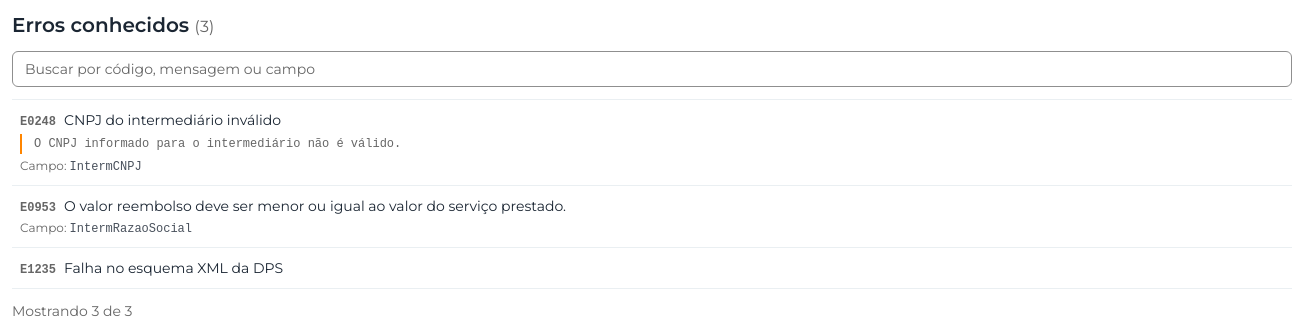
ErrosConhecidos — busca › sem resultado, diz isso e oferece limpar
Later steps or results of the test are not shown.
Type "nada-com-isso" into the search field.
click(652, 69); type("nada-com-isso")  # box [12,51,1292,87]
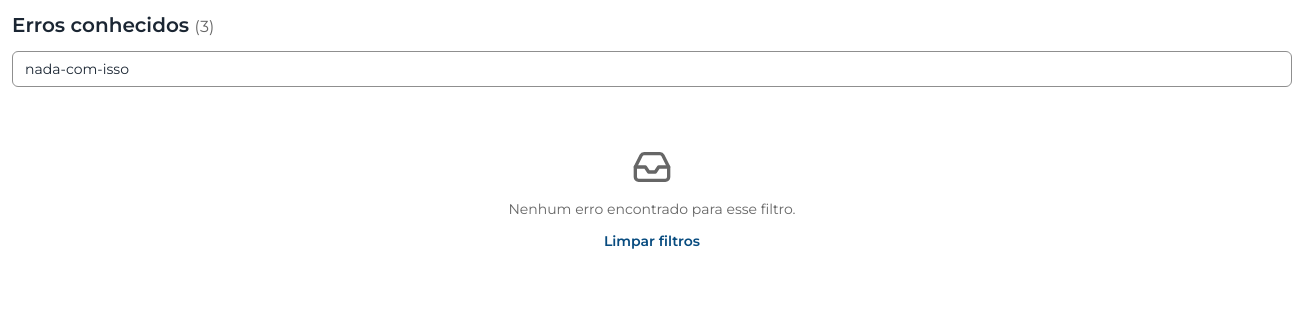
Expected: the text "Nenhum erro encontrado para esse filtro." is shown, [508,199,796,219]
